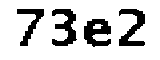2: (116, 5, 147, 50)
3: (48, 6, 78, 51)
7: (11, 5, 46, 51)
e: (81, 19, 113, 49)
